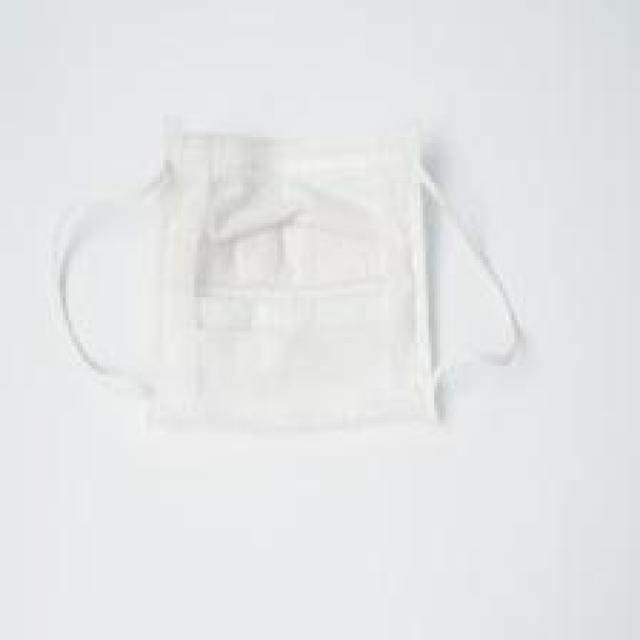Mask: (63, 140, 534, 466)
